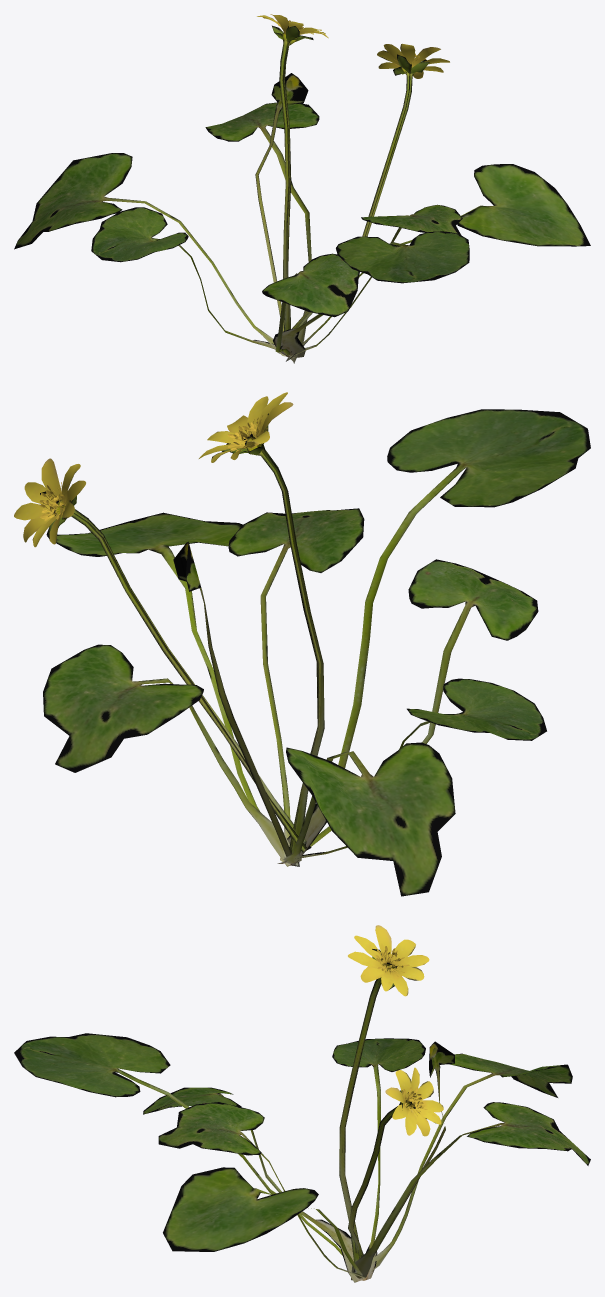
Rendered from celandine_01_d.glb.
The picture shows the model from 3 angles, top to bottom: view 1: azimuth 30°, elevation 25°; view 2: azimuth 150°, elevation 25°; view 3: azimuth 270°, elevation 25°; orthographic projection. The views are drawn at different scales.
Visible parts, largest first — view 1: celandine_01_d_LOD0; view 2: celandine_01_d_LOD0; view 3: celandine_01_d_LOD0.
Part boxes in pixels (x1=…): celandine_01_d_LOD0: x1=14, y1=14, x2=590, y2=363; celandine_01_d_LOD0: x1=14, y1=392, x2=590, y2=896; celandine_01_d_LOD0: x1=14, y1=925, x2=590, y2=1282.
Size of the model in its own units: 0.1867 by 0.1495 by 0.2229.
Materials: 1 (1 with a texture image).
